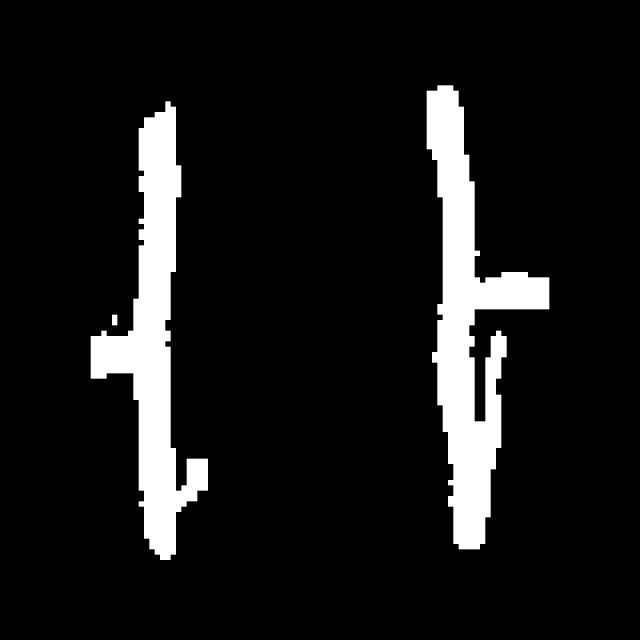capacitor: (122, 76, 491, 574)
